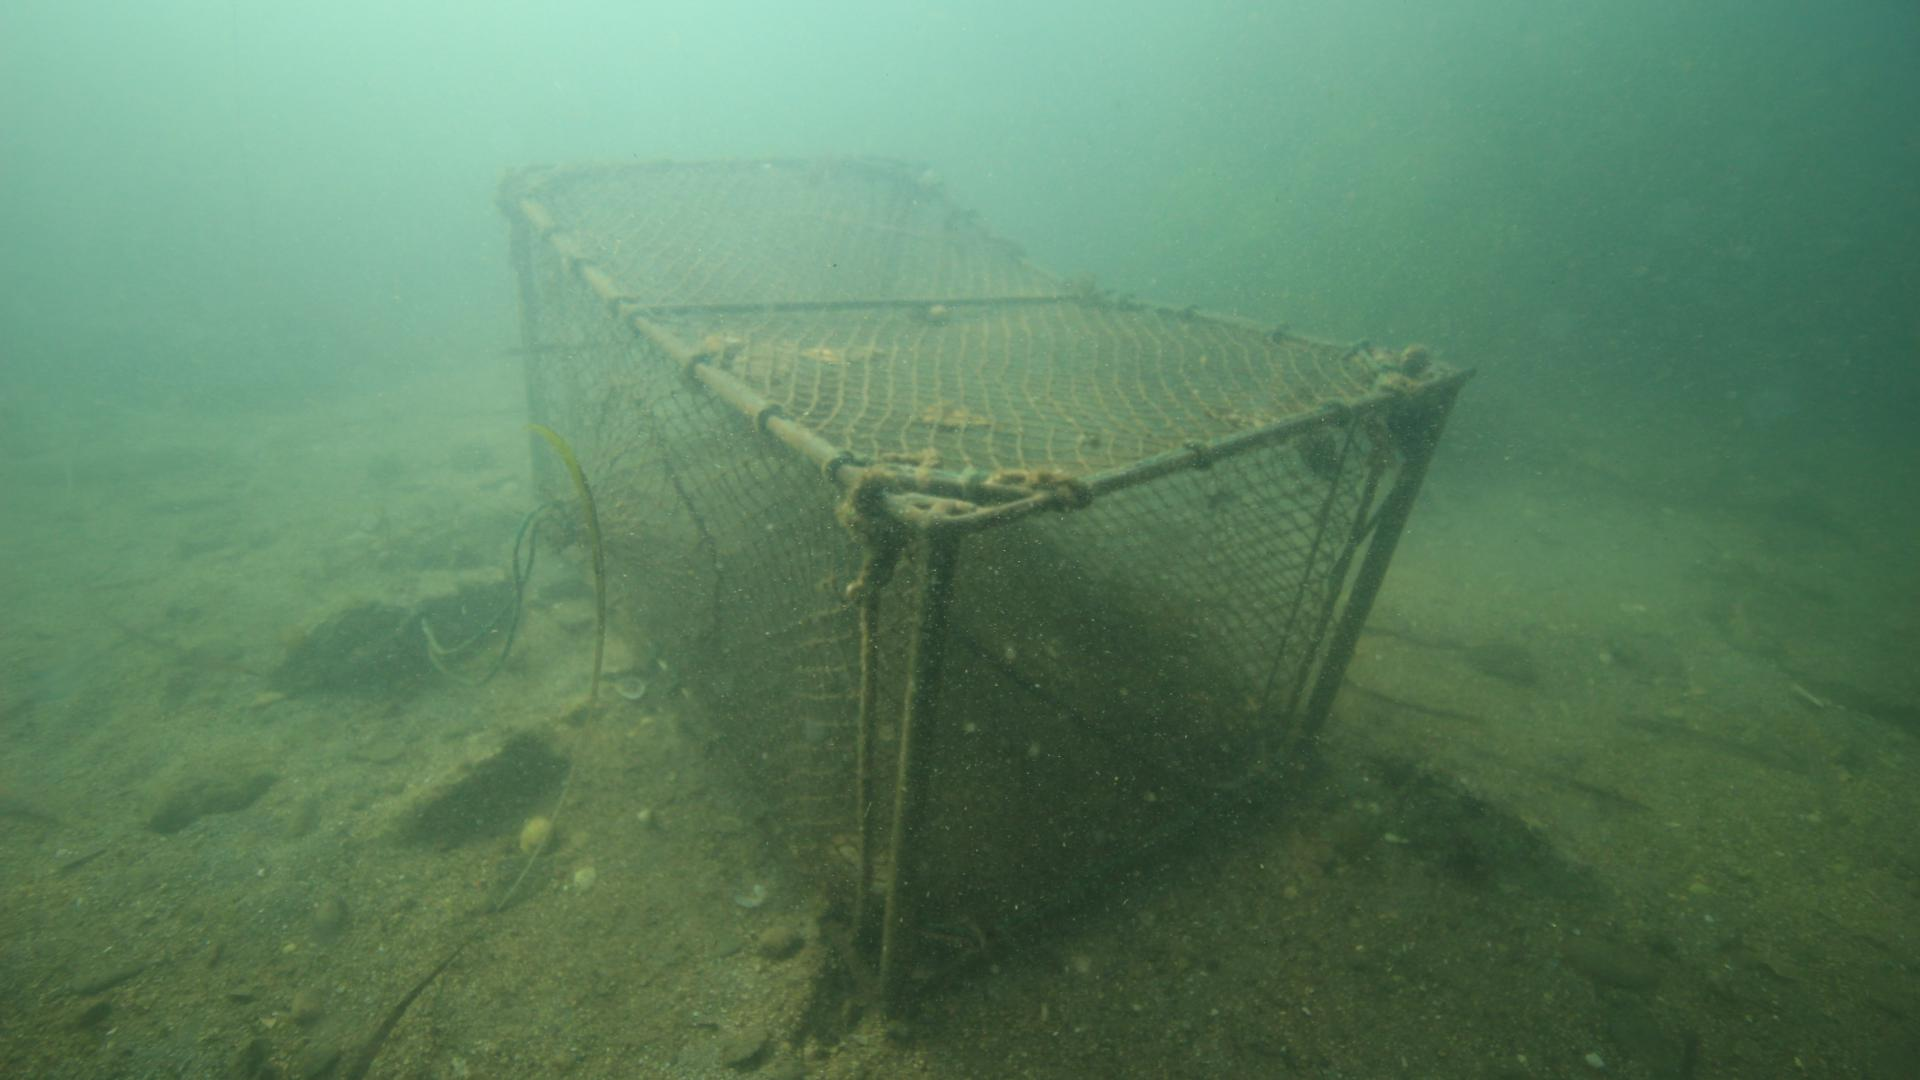rectangular fish trap: (492, 150, 1485, 1015)
